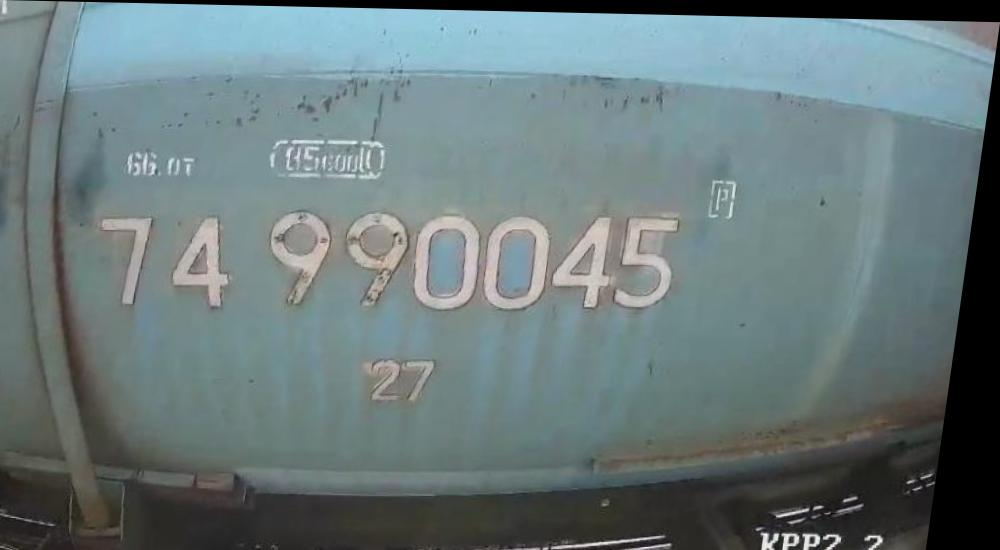Wagon-number: (94, 200, 697, 322)
